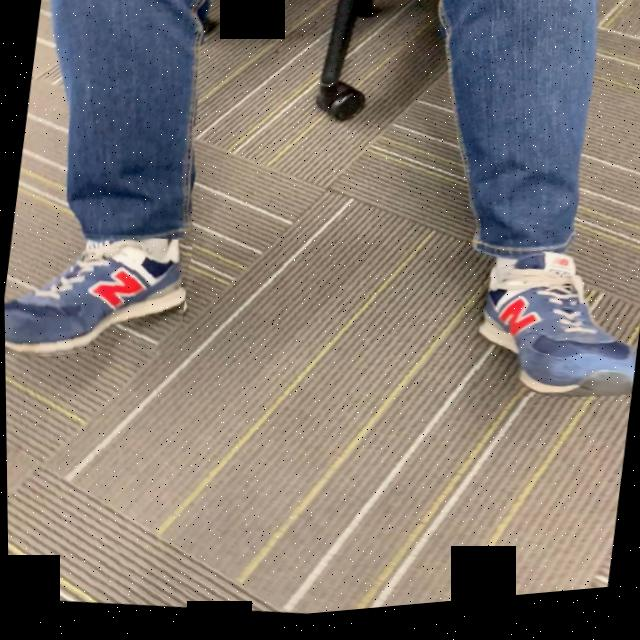shoe: (479, 266, 634, 411), (4, 241, 185, 357)
